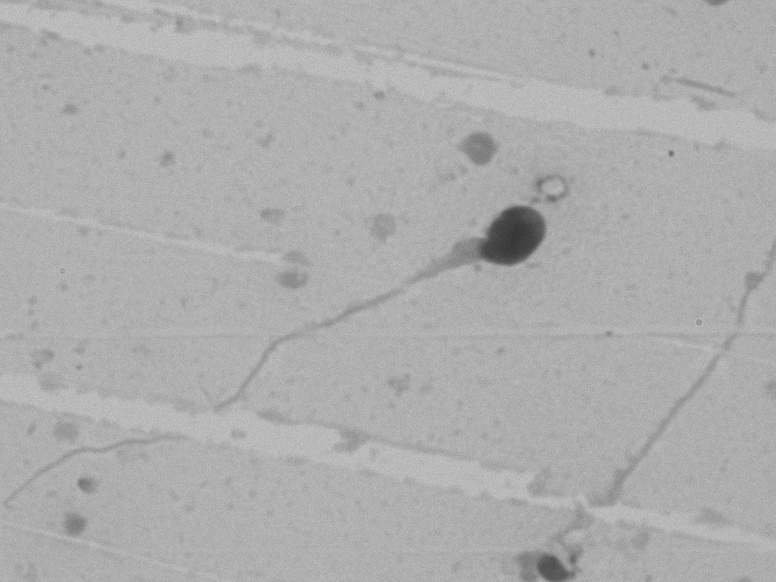Abnormal: (224, 181, 580, 424)
